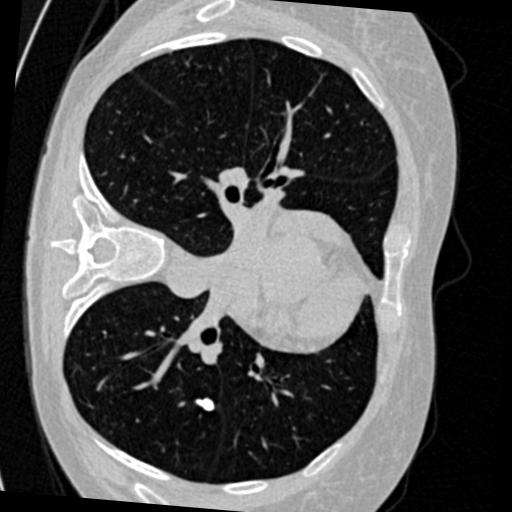nodule: (200, 396, 217, 413)
